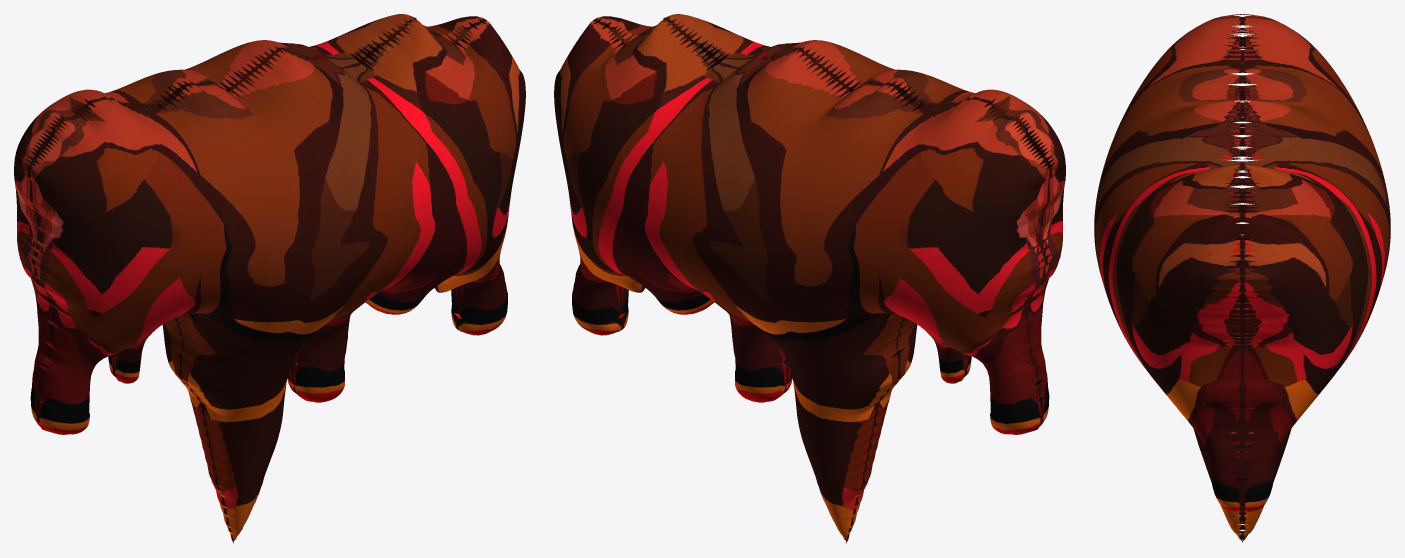
Rendered from cavern_wall.glb.
The picture shows the model from 3 angles, left to right: view 1: azimuth 30°, elevation 25°; view 2: azimuth 150°, elevation 25°; view 3: azimuth 270°, elevation 25°; orthographic projection. The views are drawn at different scales.
Visible parts, largest first — view 1: cavern_wall; view 2: cavern_wall; view 3: cavern_wall.
Boxes of the visible parts, x1,y1,x2,y2 form: cavern_wall: [14, 14, 525, 543]; cavern_wall: [554, 14, 1065, 543]; cavern_wall: [1094, 14, 1390, 541].
Size of the model in its own units: 0.9888 by 0.9426 by 0.5439.
1 material, 1 textured.
